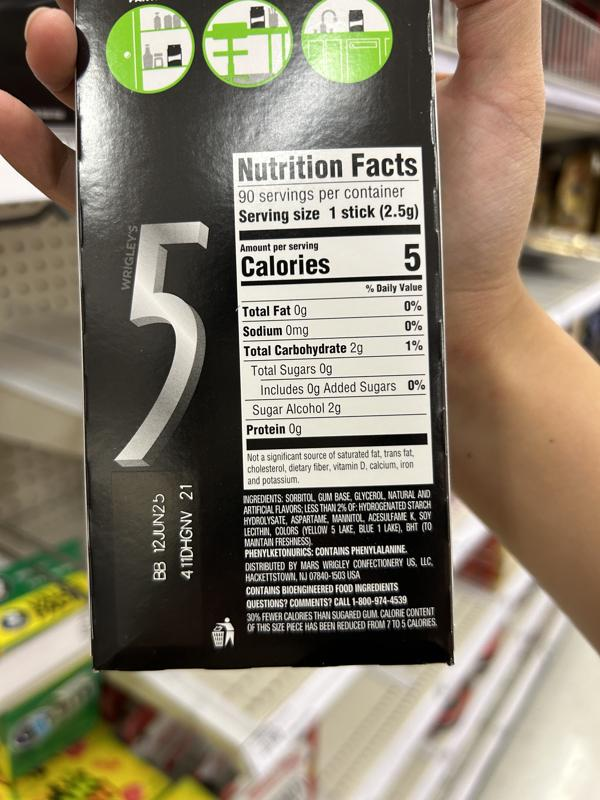ingredients: (240, 488, 435, 548)
